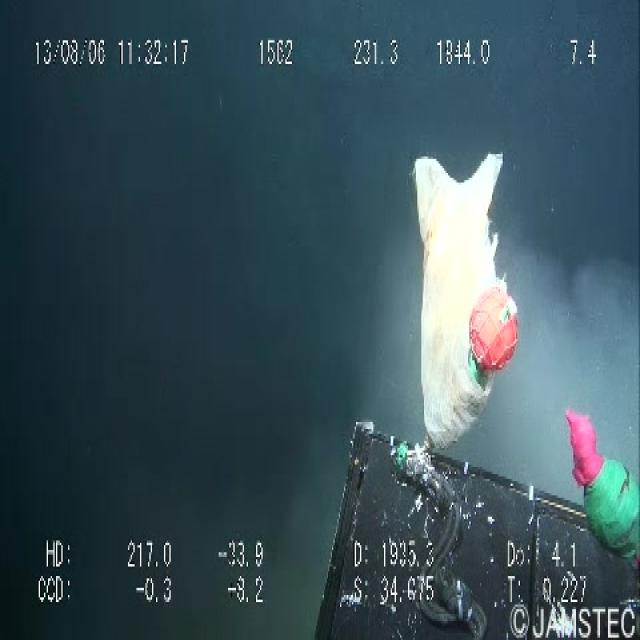plastic: (402, 130, 514, 458)
